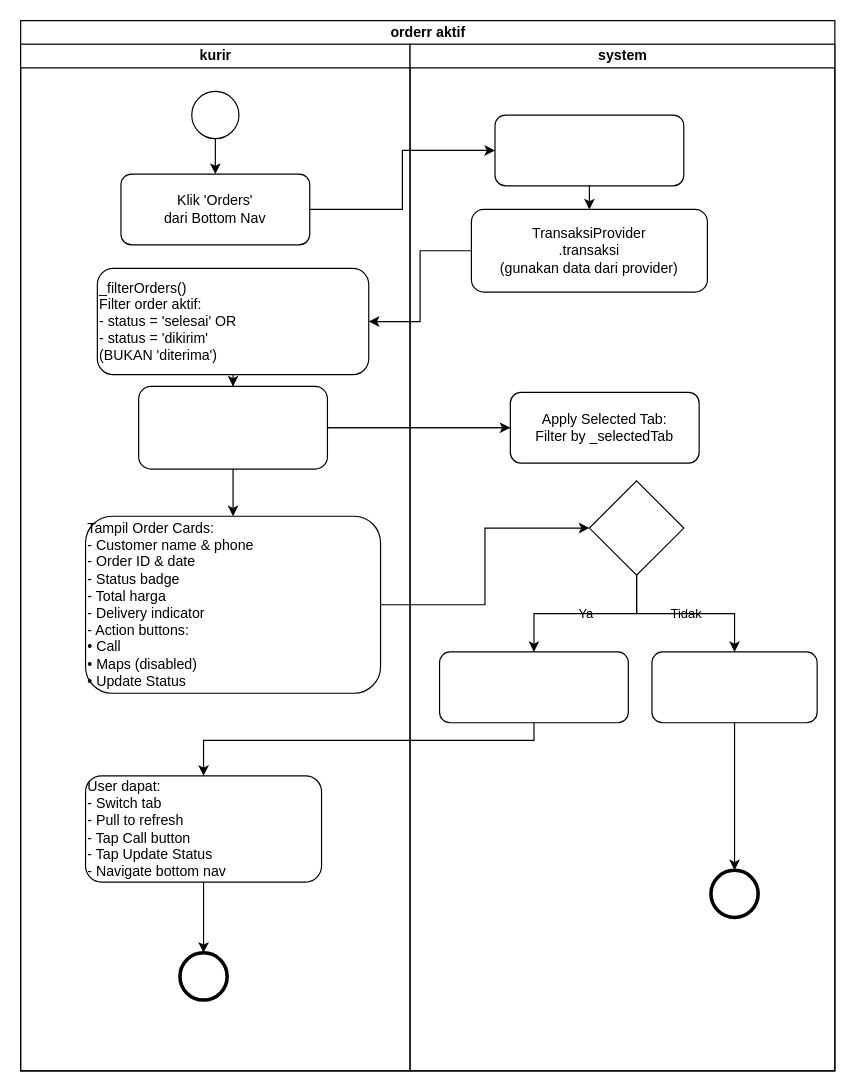
This 855x1092 diagram has some shape labels left out. Here are the shapes that lost their labels. From the top down, the centre of each, then its label:
At [589,150]: "Navigator.pushNamed (AppRoutes.kurirOrders)".
At [232,427]: "Tampil Tab Filter: - Semua (all active) - Selesai - Dikirim".
At [636,527]: "Ada Orders?".
At [533,687]: "ListView.builder: Tampil semua order cards".
At [734,687]: "_buildEmptyState() Icon + Text: 'Tidak ada pengiriman aktif'".
